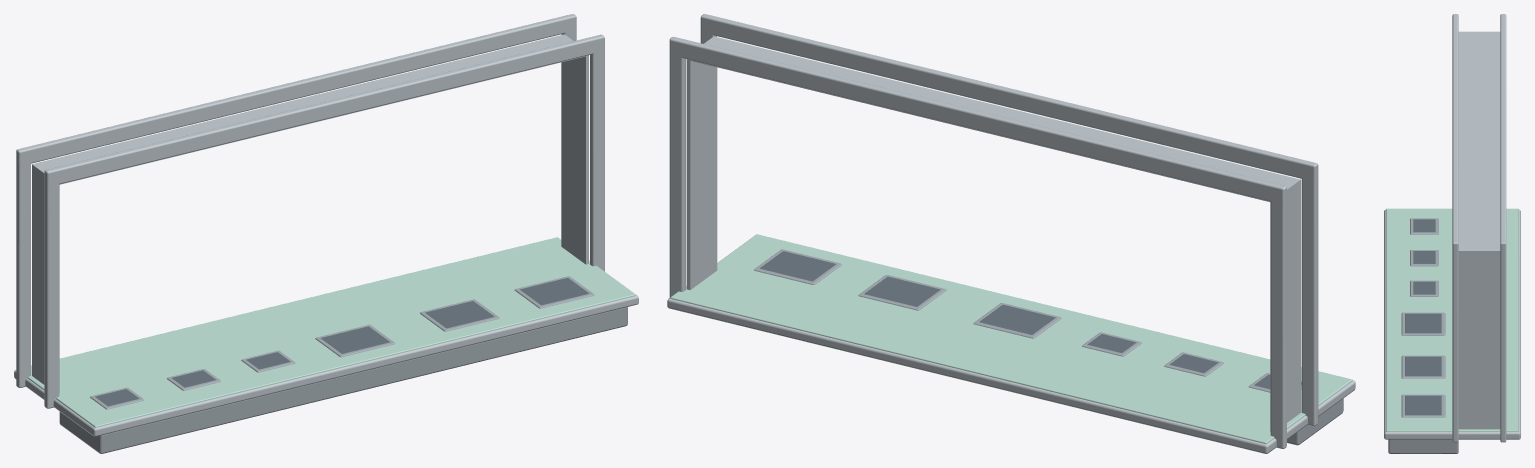
Rendered from SM_StationWindow.glb.
3 renders of one model, left to right at view 1: azimuth 30°, elevation 25°; view 2: azimuth 150°, elevation 25°; view 3: azimuth 270°, elevation 25°, orthographic. The views are drawn at different scales.
Visible parts, largest first — view 1: SM_StationWindow; view 2: SM_StationWindow; view 3: SM_StationWindow.
Part boxes in pixels (bbox=[...]): SM_StationWindow: bbox=[14, 14, 638, 453]; SM_StationWindow: bbox=[667, 14, 1355, 453]; SM_StationWindow: bbox=[1384, 14, 1520, 453].
Size of the model in its own units: 2.62 by 1.16 by 0.66.
3 materials, 3 textured.
